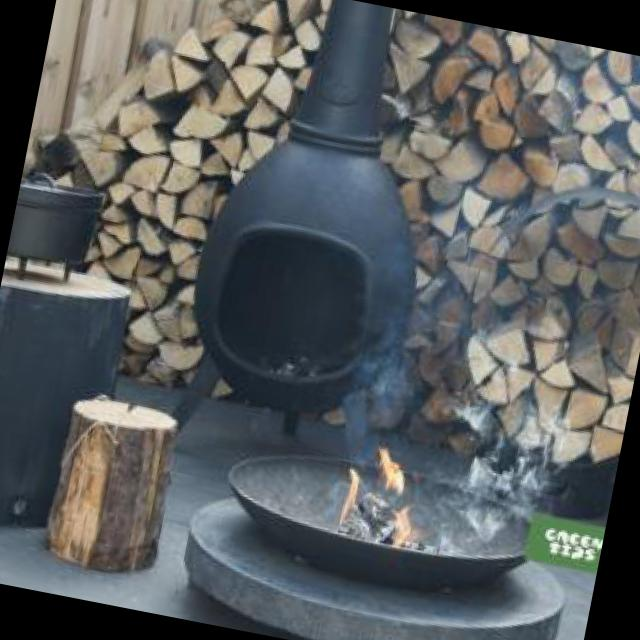fire: (332, 446, 439, 560), (332, 320, 422, 438)
smoke: (457, 390, 570, 552)
